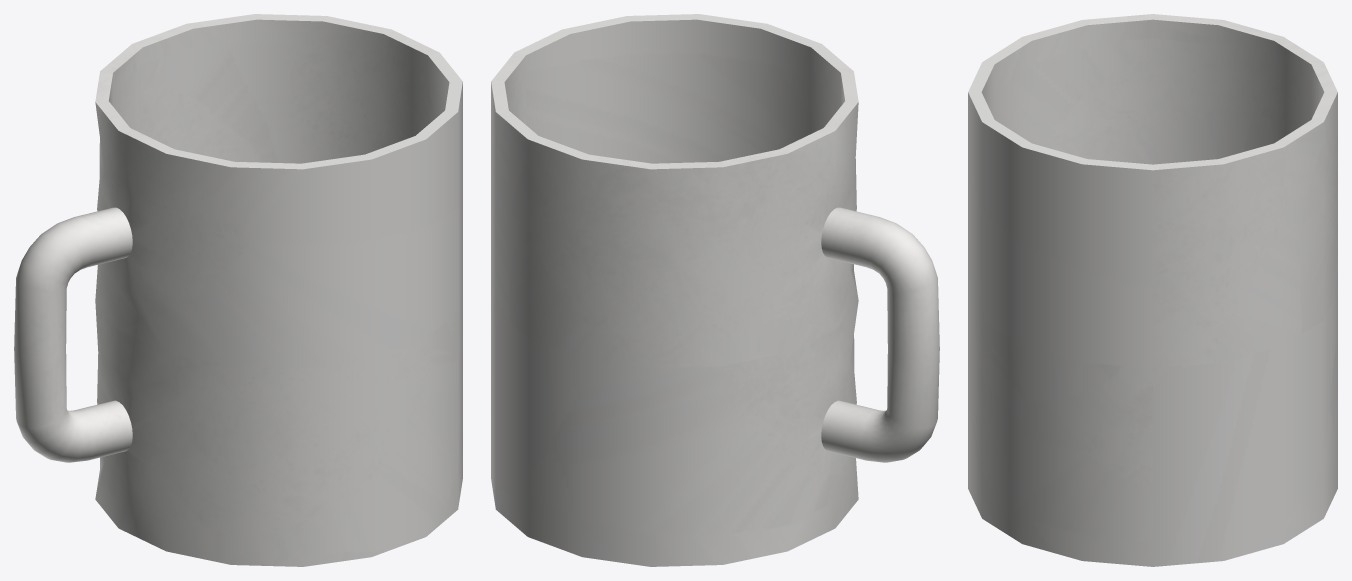
File: Mug.fbx
3 renders of one model, left to right at view 1: azimuth 30°, elevation 25°; view 2: azimuth 150°, elevation 25°; view 3: azimuth 270°, elevation 25°, orthographic.
Visible parts, largest first — view 1: Mug.001; view 2: Mug.001; view 3: Mug.001.
Boxes of the visible parts, <box> form: Mug.001: <box>14,14,462,566</box>; Mug.001: <box>491,14,939,566</box>; Mug.001: <box>968,14,1337,566</box>.
Bounding box in the file's own units: 0.1982 × 0.1507 × 0.1784.
